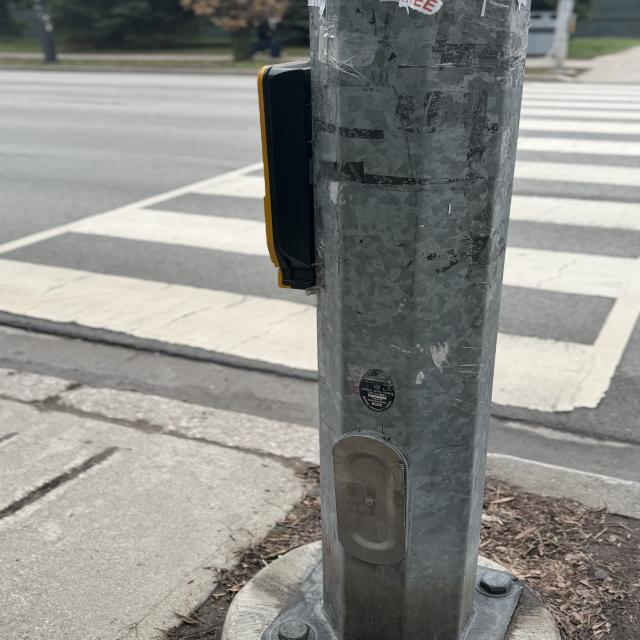Electrical Pole: (236, 1, 537, 638)
